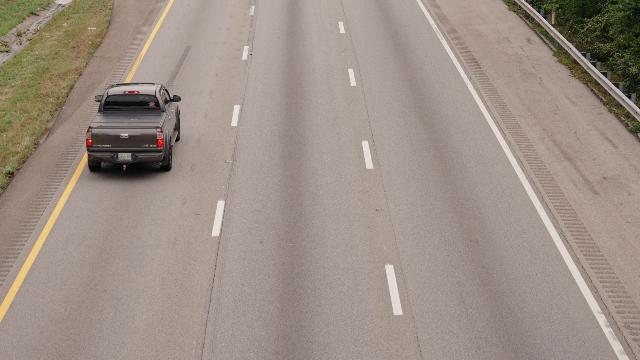pickup-truck: (87, 81, 188, 176)
